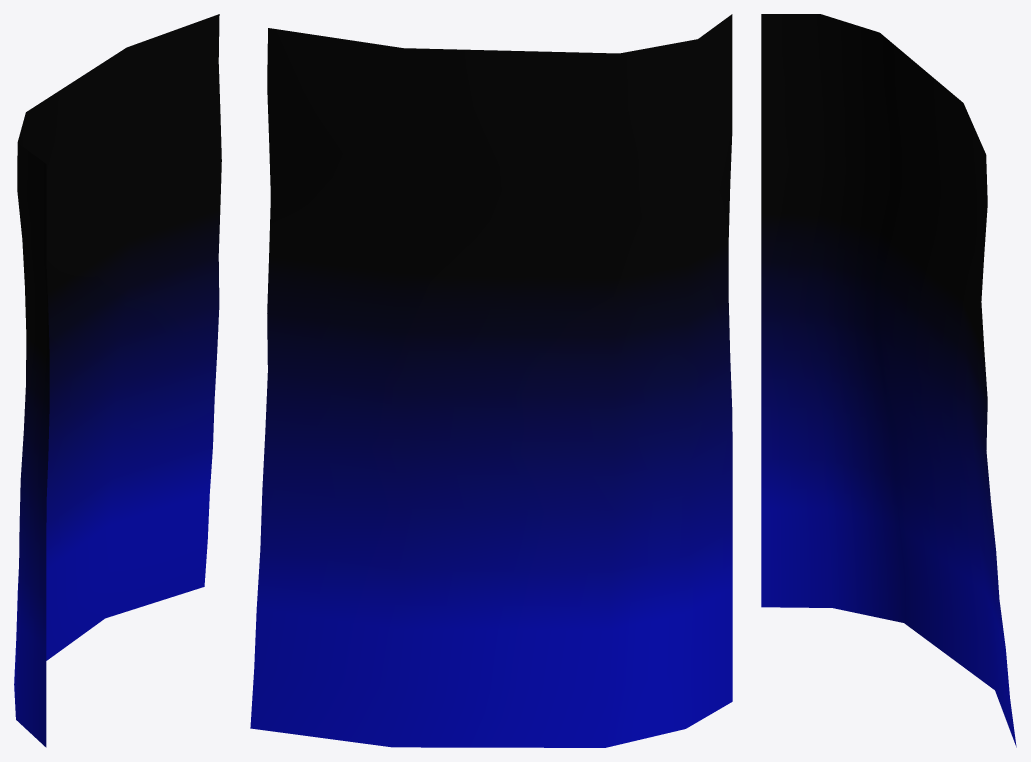
File: TFD_Waterfall_03A_Base_R.fbx
3 renders of one model, left to right at view 1: azimuth 30°, elevation 25°; view 2: azimuth 150°, elevation 25°; view 3: azimuth 270°, elevation 25°, orthographic. The views are drawn at different scales.
Parts seen in each view (by area): view 1: TFD_Waterfall_03A_Base_R; view 2: TFD_Waterfall_03A_Base_R; view 3: TFD_Waterfall_03A_Base_R.
Boxes of the visible parts, x1,y1,x2,y2 form: TFD_Waterfall_03A_Base_R: (14, 14, 221, 747); TFD_Waterfall_03A_Base_R: (250, 14, 732, 747); TFD_Waterfall_03A_Base_R: (761, 14, 1016, 747).
Size of the model in its own units: 3.05 by 6 by 2.34.
